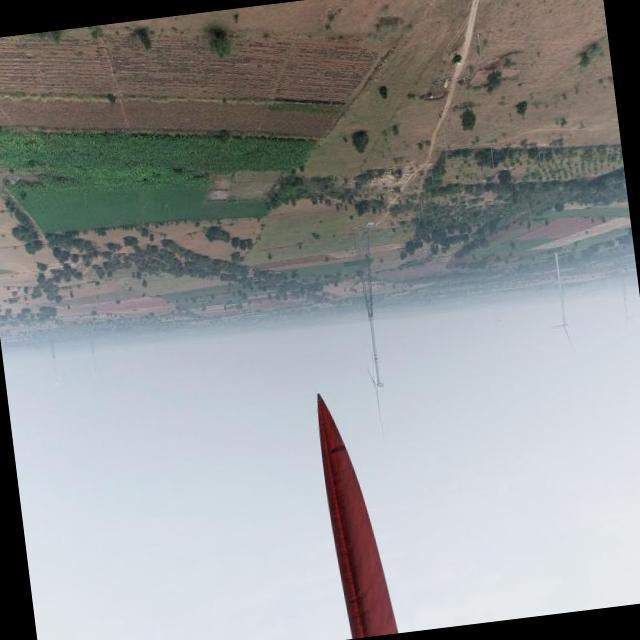Dirt: (316, 390, 398, 640)
